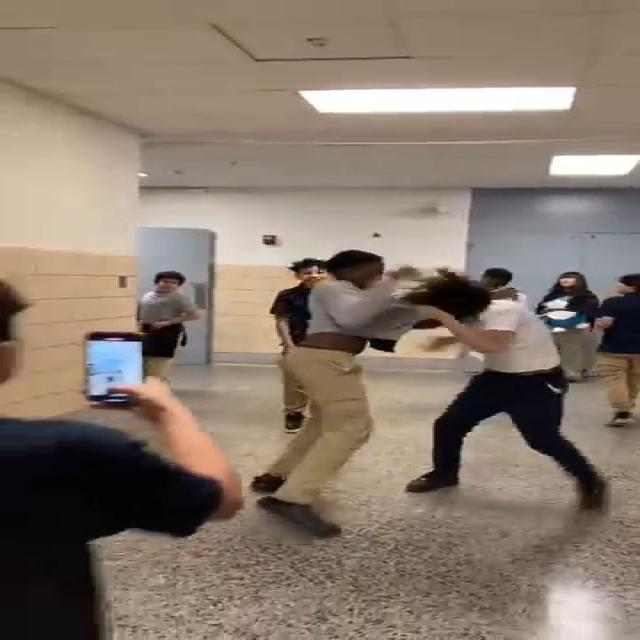fight: (257, 246, 616, 534)
